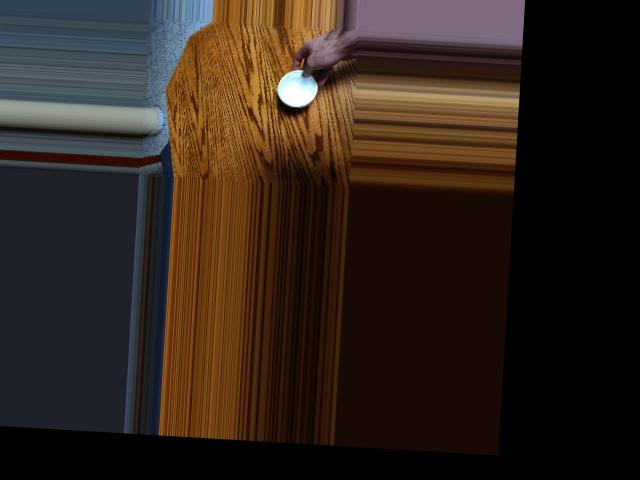cotage: (272, 63, 325, 109)
